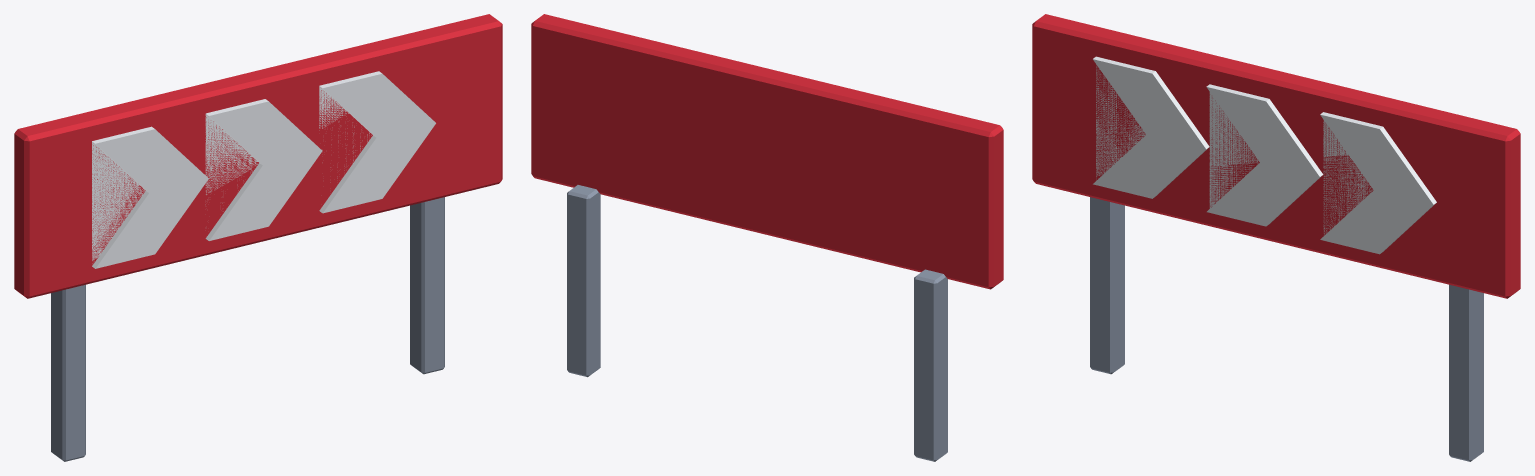
Rendered from ChevronBoard.fbx.
The picture shows the model from 3 angles, left to right: view 1: azimuth 30°, elevation 25°; view 2: azimuth 150°, elevation 25°; view 3: azimuth 330°, elevation 25°; orthographic projection. The views are drawn at different scales.
Parts seen in each view (by area): view 1: ChevronBoard; view 2: ChevronBoard; view 3: ChevronBoard.
Boxes of the visible parts, box(x1,y1,x2,y2) form: ChevronBoard: box(14, 14, 502, 461); ChevronBoard: box(531, 14, 1003, 461); ChevronBoard: box(1032, 14, 1520, 461).
Size of the model in its own units: 8 by 5.5 by 0.8.
1 material, 1 textured.
